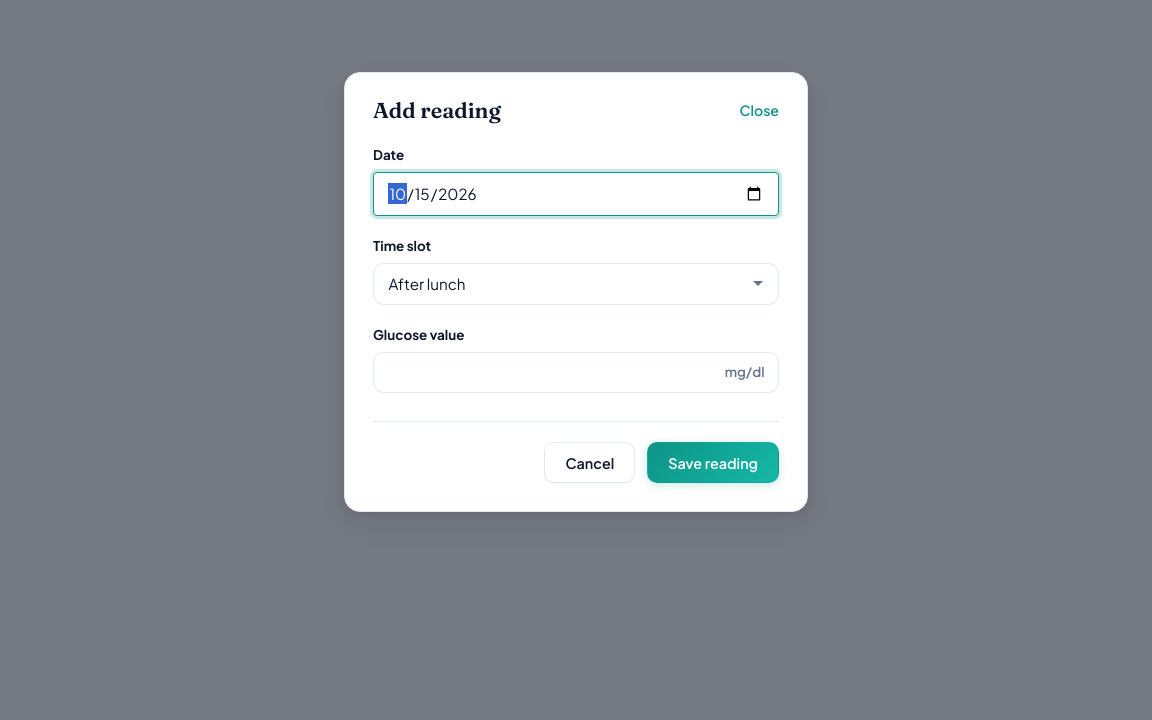
ReadingForm validation › asks for a value when it is empty, without calling the API
Click the button "Save reading": click(713, 463) [647,442,779,483]
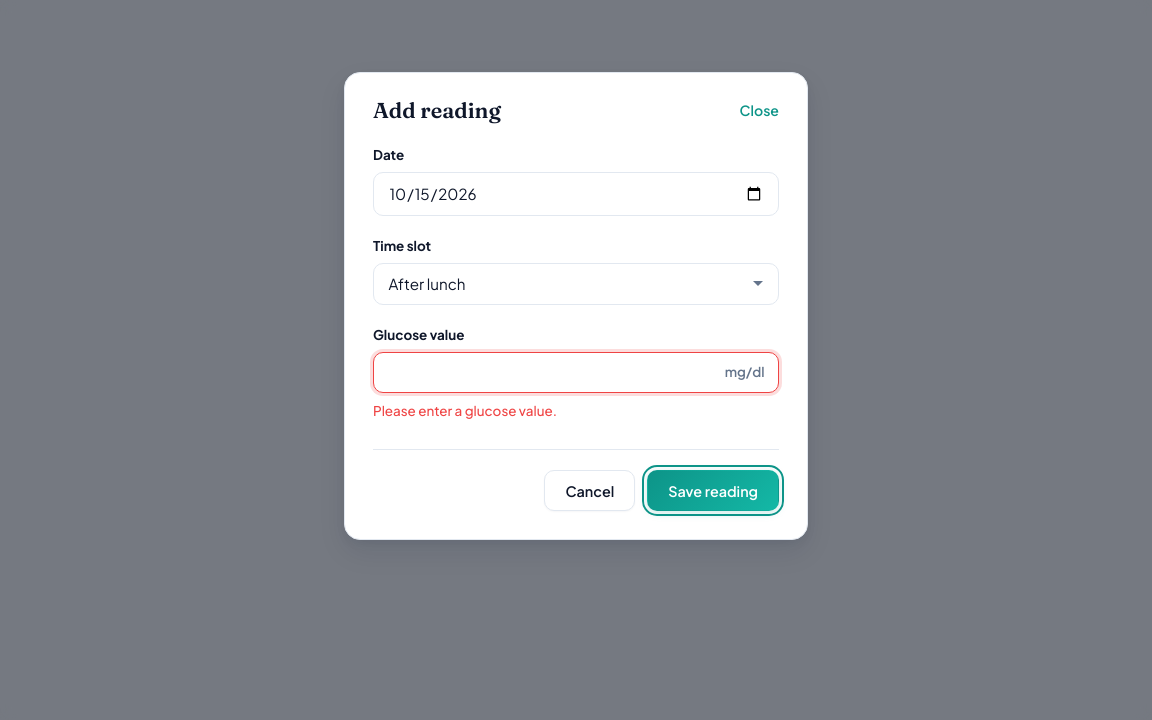
Now the text "Please enter a glucose value." is shown, box [373,402,557,419]
